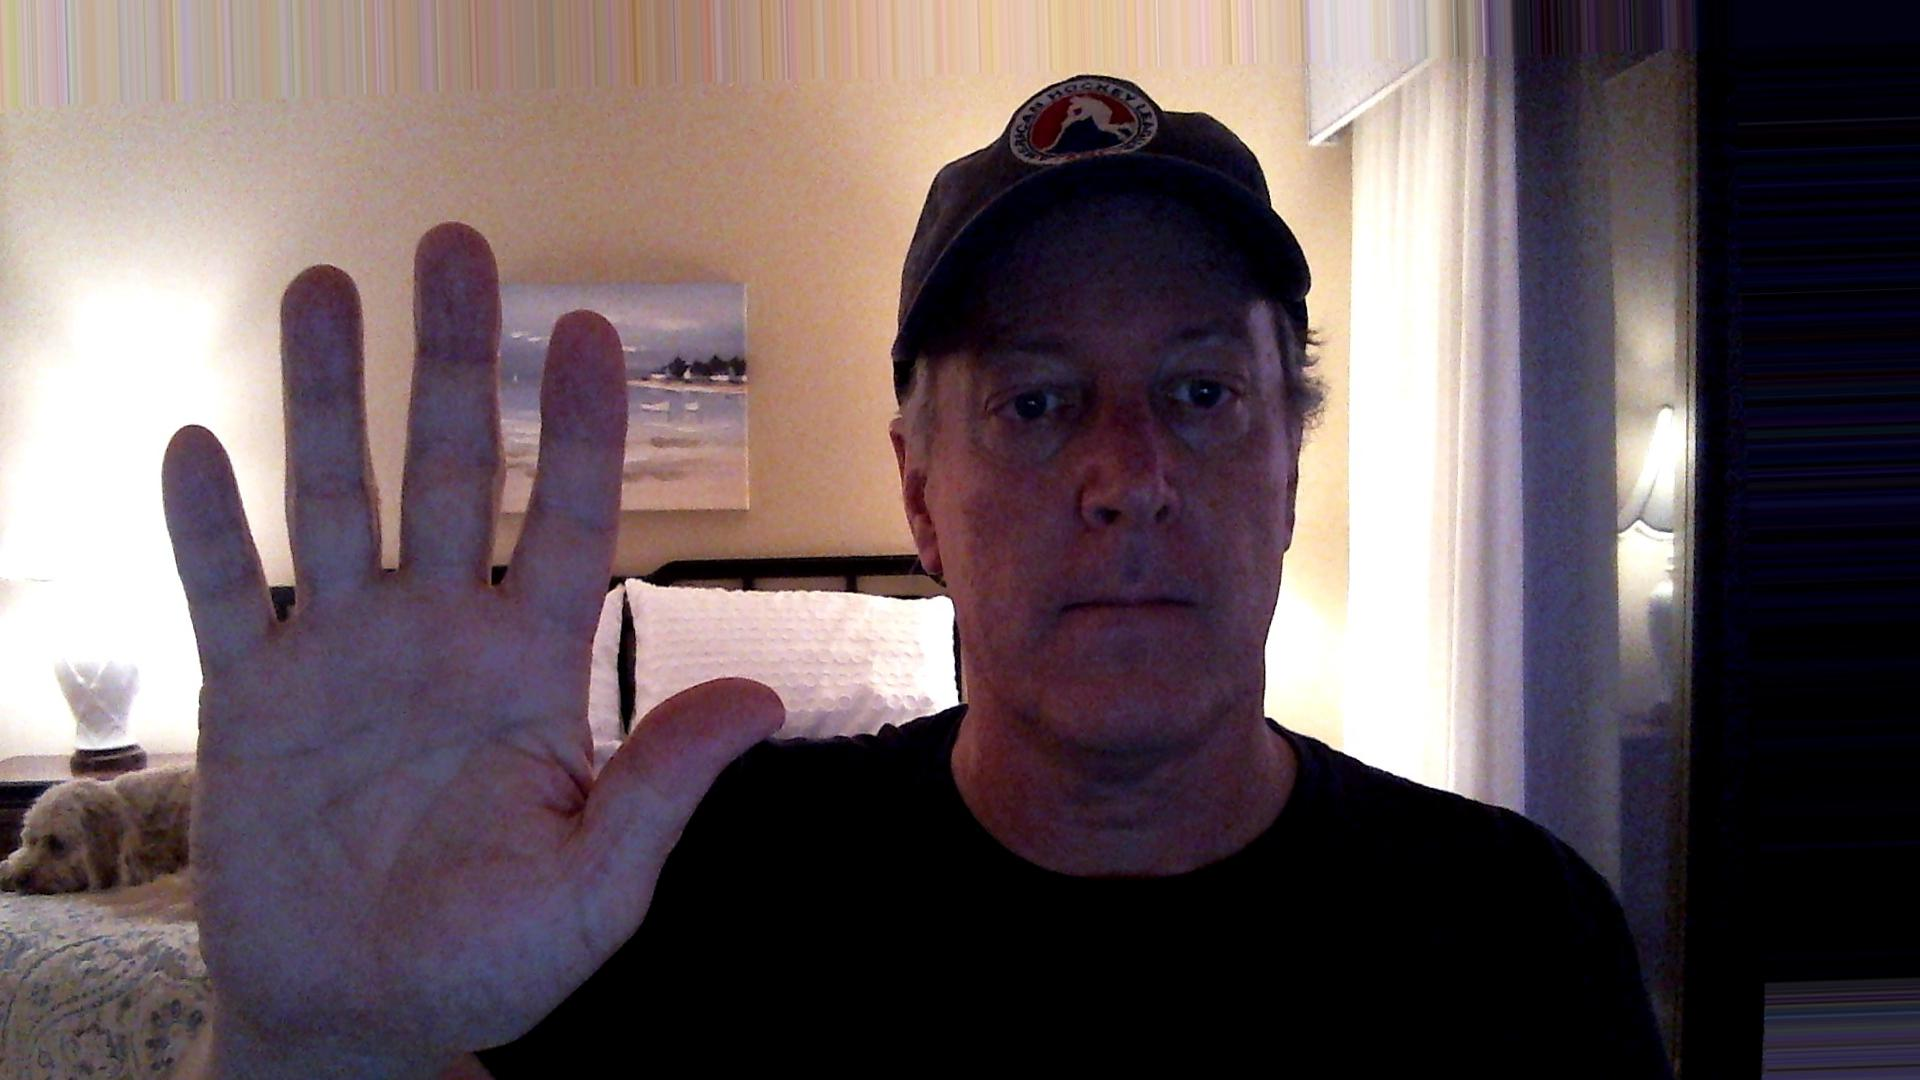Hello: (149, 214, 783, 1060)
